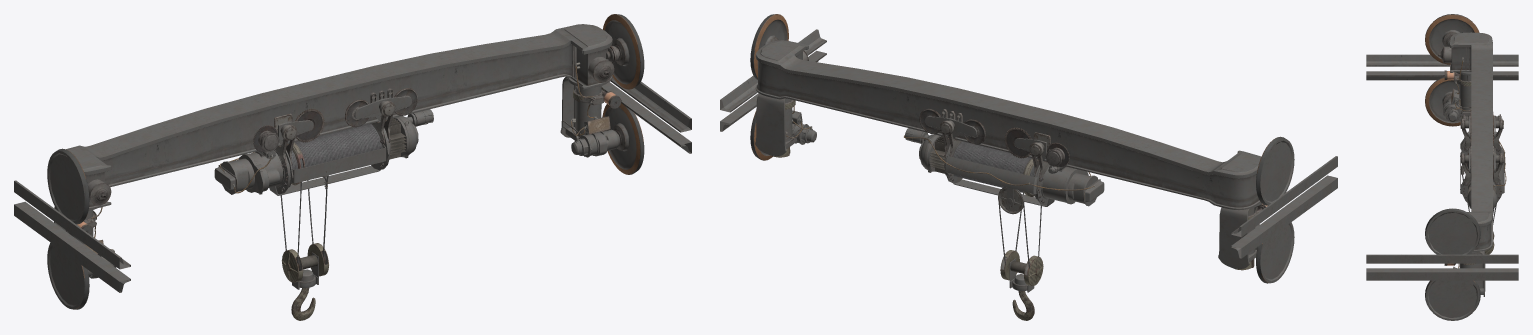
Rendered from ph2_overhead_crane.glb.
The picture shows the model from 3 angles, left to right: view 1: azimuth 30°, elevation 25°; view 2: azimuth 150°, elevation 25°; view 3: azimuth 270°, elevation 25°; orthographic projection. The views are drawn at different scales.
Size of the model in its own units: 12.49 by 5.13 by 4.
2 materials, 2 textured.
